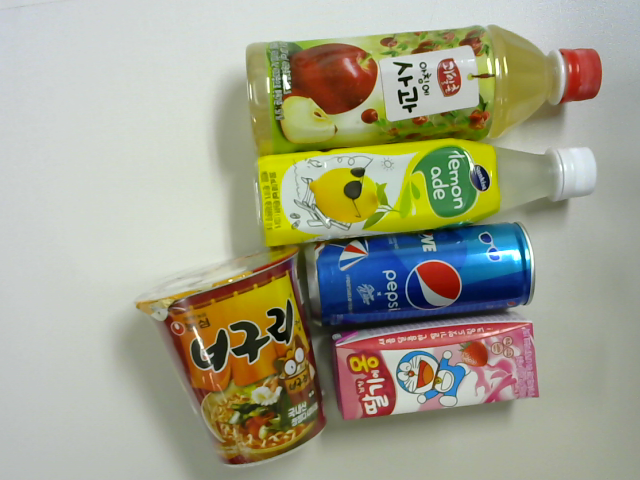Morning_Apple_500ml: (239, 28, 605, 152)
Pepsi_Cola_Can_250ml: (301, 232, 531, 308)
Raccoon: (139, 244, 329, 472)
Strawberry_E_Mong: (337, 314, 539, 426)
Sunkist_Lemonaid_Pet: (253, 134, 597, 244)
